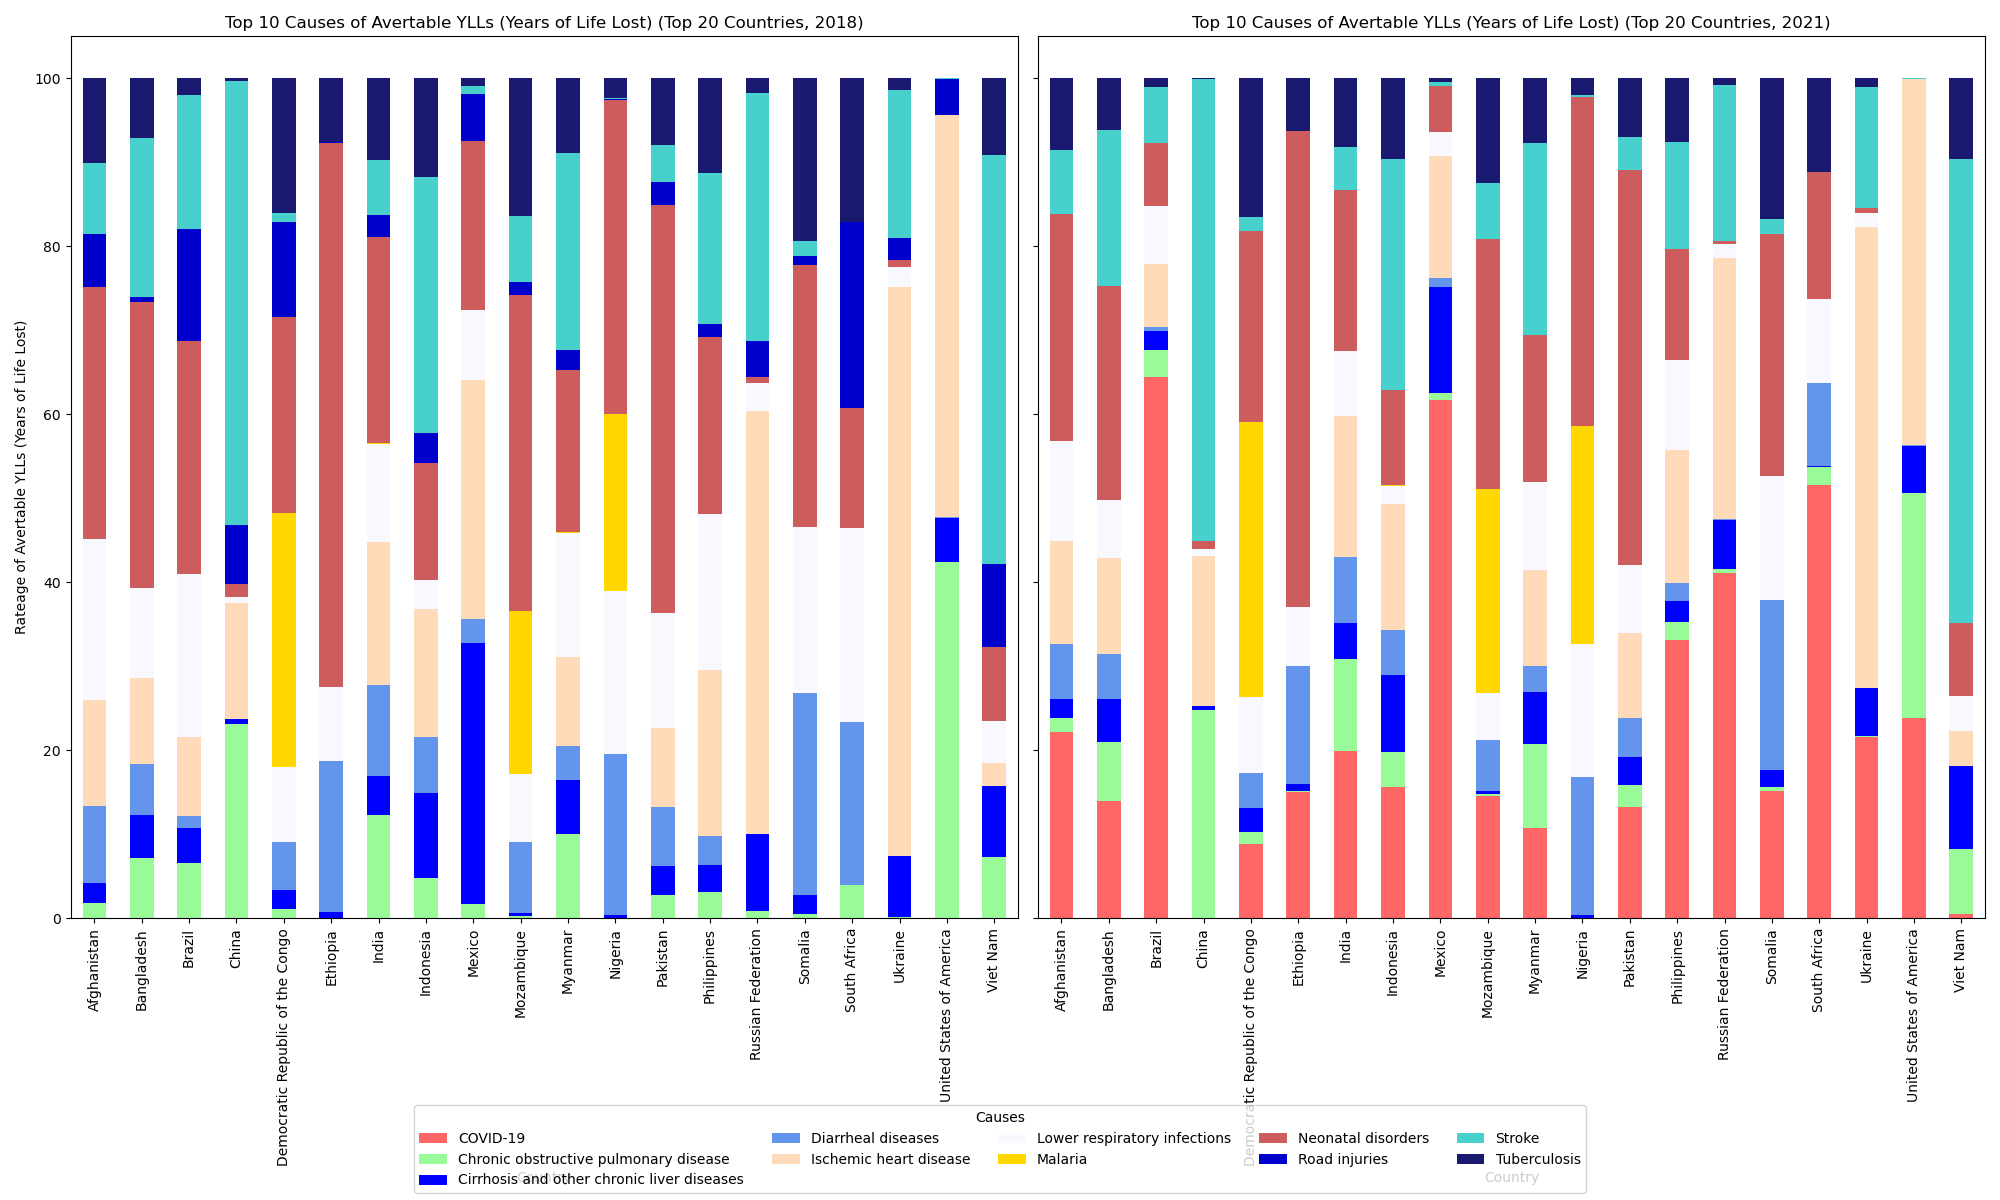

What the dashboard file says about the page in this screenshot:
{"tool":"tableau","page":{"name":"Dashboard 13","canvas":[1000,800],"ordinal":4},"visuals":[{"type":"worksheet","title":"Sheet 35","mark":"Automatic","box":[8,8,984,784]},{"type":"legend","title":"Sheet 35","param":"[federated.02kr92z01n08sg13d5hqw0u9ay24].[usr:Calculation_3593239233526333443:qk","box":[846,58,140,76]}]}

Visuals, with their boxes on the page's 1000x800 design canvas (x1, y1, x2, y2). These are canvas units, not pixel positions in the 2000x1200 screenshot, which may show the page scaled, cropped or inside an application window:
"Sheet 35" worksheet: [8, 8, 992, 792]
"Sheet 35" legend: [846, 58, 986, 134]
